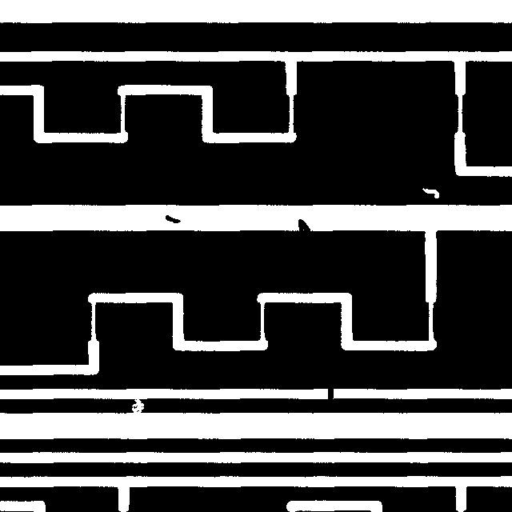copper: (158, 207, 188, 230)
open: (124, 391, 151, 421)
pin-hole: (414, 180, 446, 206)
short: (320, 376, 341, 408)
spur: (290, 211, 318, 240)
